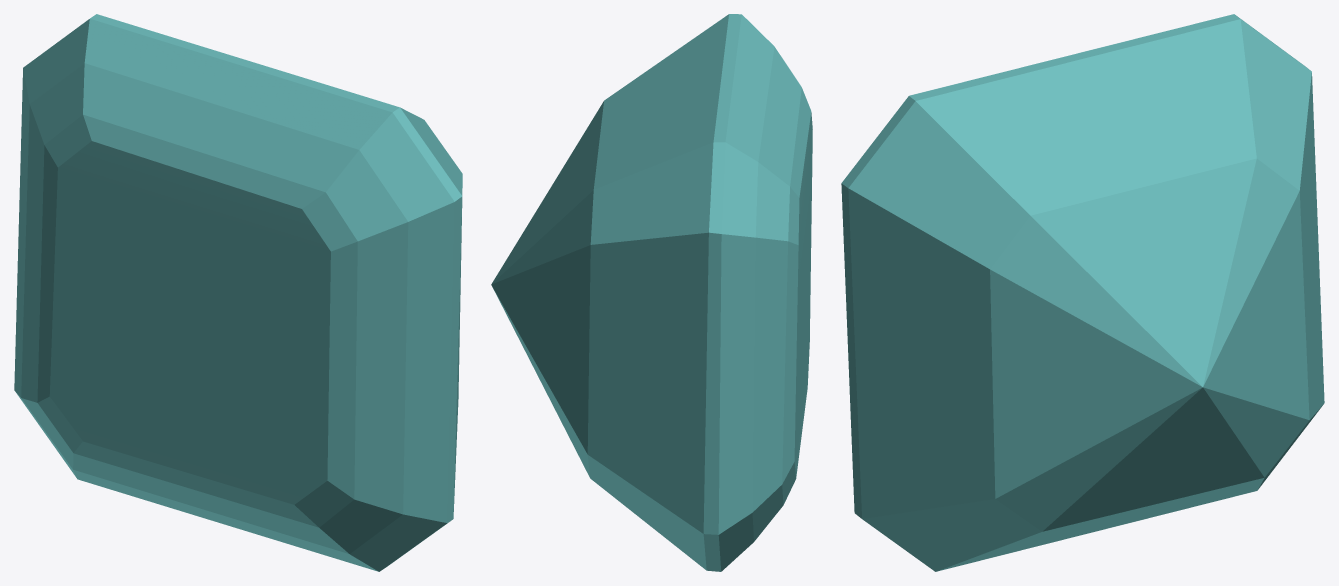
Rendered from BL4_8shapes_Square_Classic_Stone.001 3.glb.
3 views of the same model, side by side, from view 1: azimuth 30°, elevation 25°; view 2: azimuth 150°, elevation 25°; view 3: azimuth 270°, elevation 25° (orthographic). The views are drawn at different scales.
Parts seen in each view (by area): view 1: BL4_8shapes_Square_Classic_Stone.001; view 2: BL4_8shapes_Square_Classic_Stone.001; view 3: BL4_8shapes_Square_Classic_Stone.001.
Part boxes in pixels (bbox=[...]): BL4_8shapes_Square_Classic_Stone.001: bbox=[14, 14, 462, 571]; BL4_8shapes_Square_Classic_Stone.001: bbox=[491, 14, 812, 571]; BL4_8shapes_Square_Classic_Stone.001: bbox=[841, 14, 1324, 571].
Bounding box in the file's own units: 0.3534 × 0.4861 × 0.4399.
